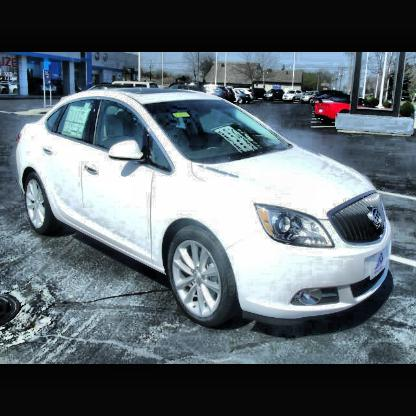Buick Verano Sedan 2012: (17, 89, 395, 330)
